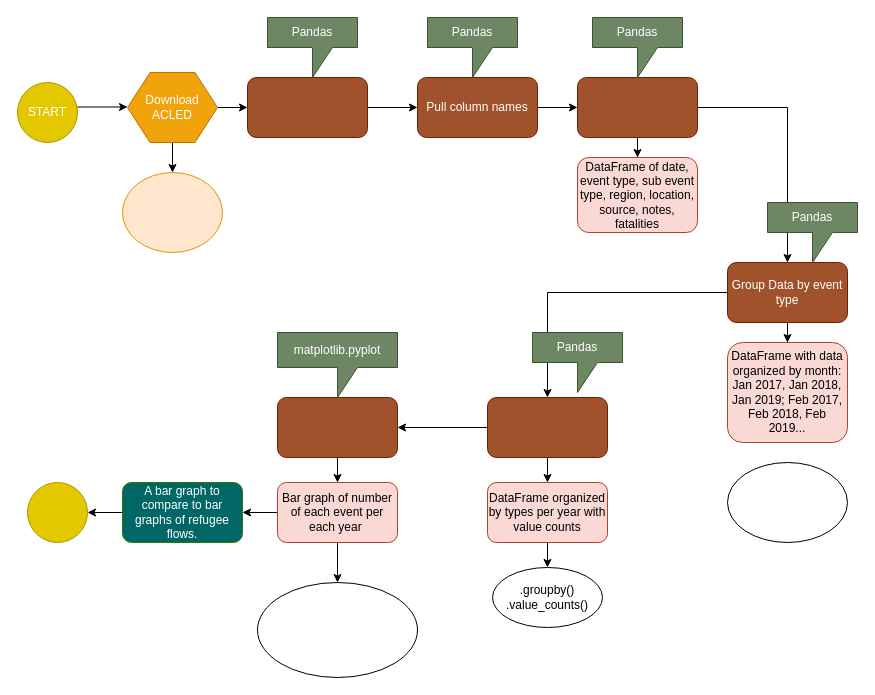
Image size: 875x695. Some labels were removed from this diagram. The centre of each missing label's shape, as x and y in pixels:
.plot(kind=" ",x=" ",y=" ", ax=ax) plt.show(): (x=337, y=630)
Create new variable for refined dataframe.: (x=637, y=107)
END: (x=57, y=512)
Graph visual of data: (x=337, y=427)
Group data by year: (x=547, y=427)
Selected data for Syria, MEPV: (x=172, y=212)
This isn't what I was looking for, so need to try again!: (x=787, y=502)
Upload as sample data set.: (x=307, y=107)
